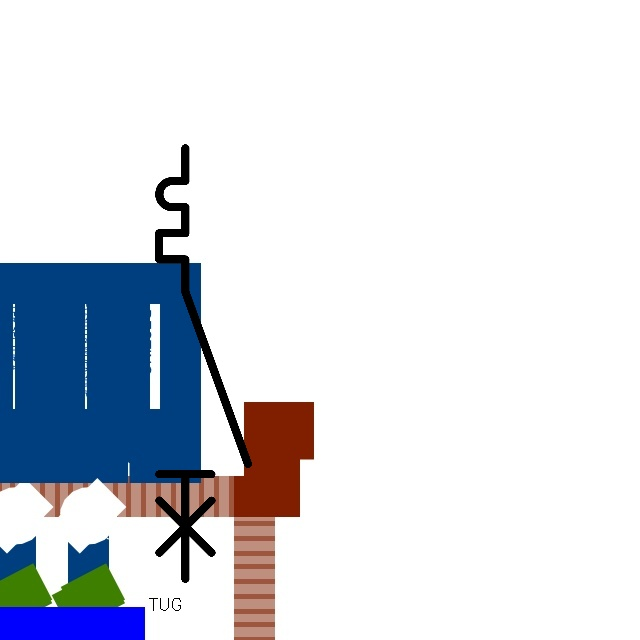interruptor_termomagnetico: (148, 137, 259, 590)
